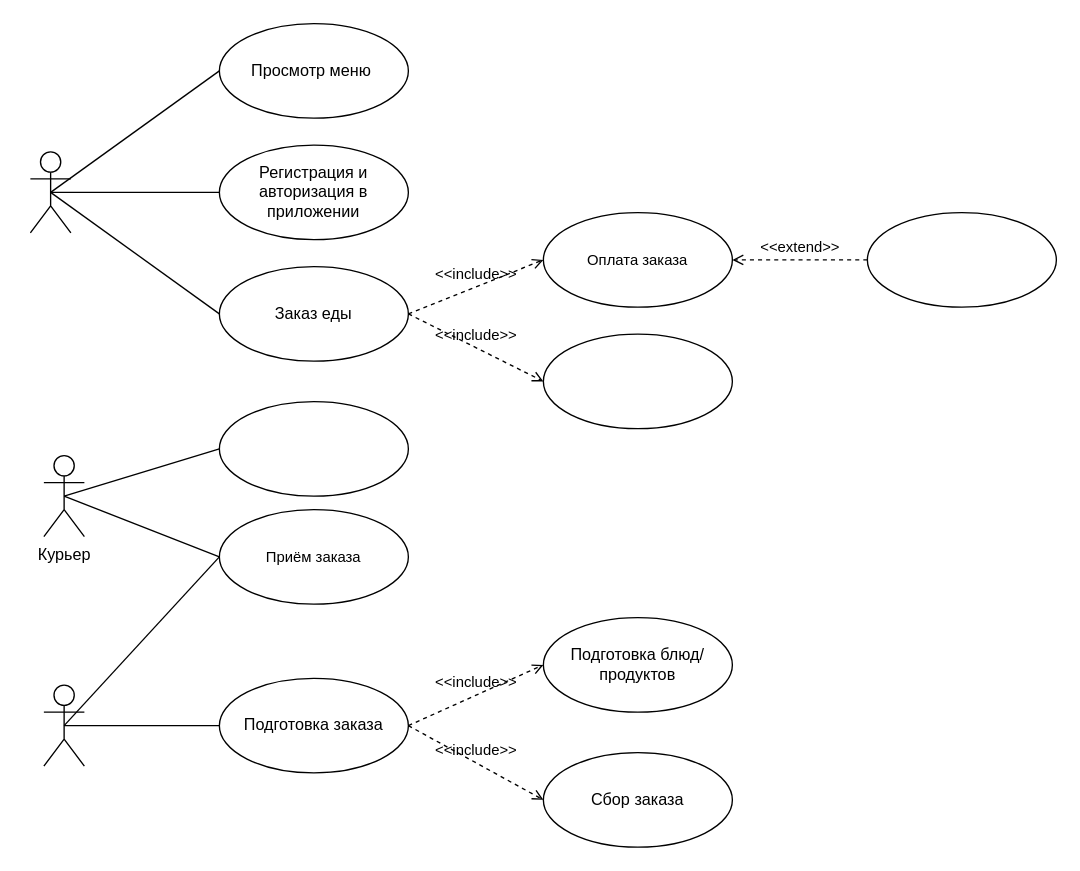
Some shapes in this 1080 by 871 pixel diagram are drawn without their labels. The centre of each missing label's shape, as x and y in pixels:
Доставка заказа: the point at 313,448
Клиент: the point at 50,192
Отмена заказа: the point at 961,259
Отслеживание статуса заказа: the point at 637,381
Ресторан: the point at 63,725
